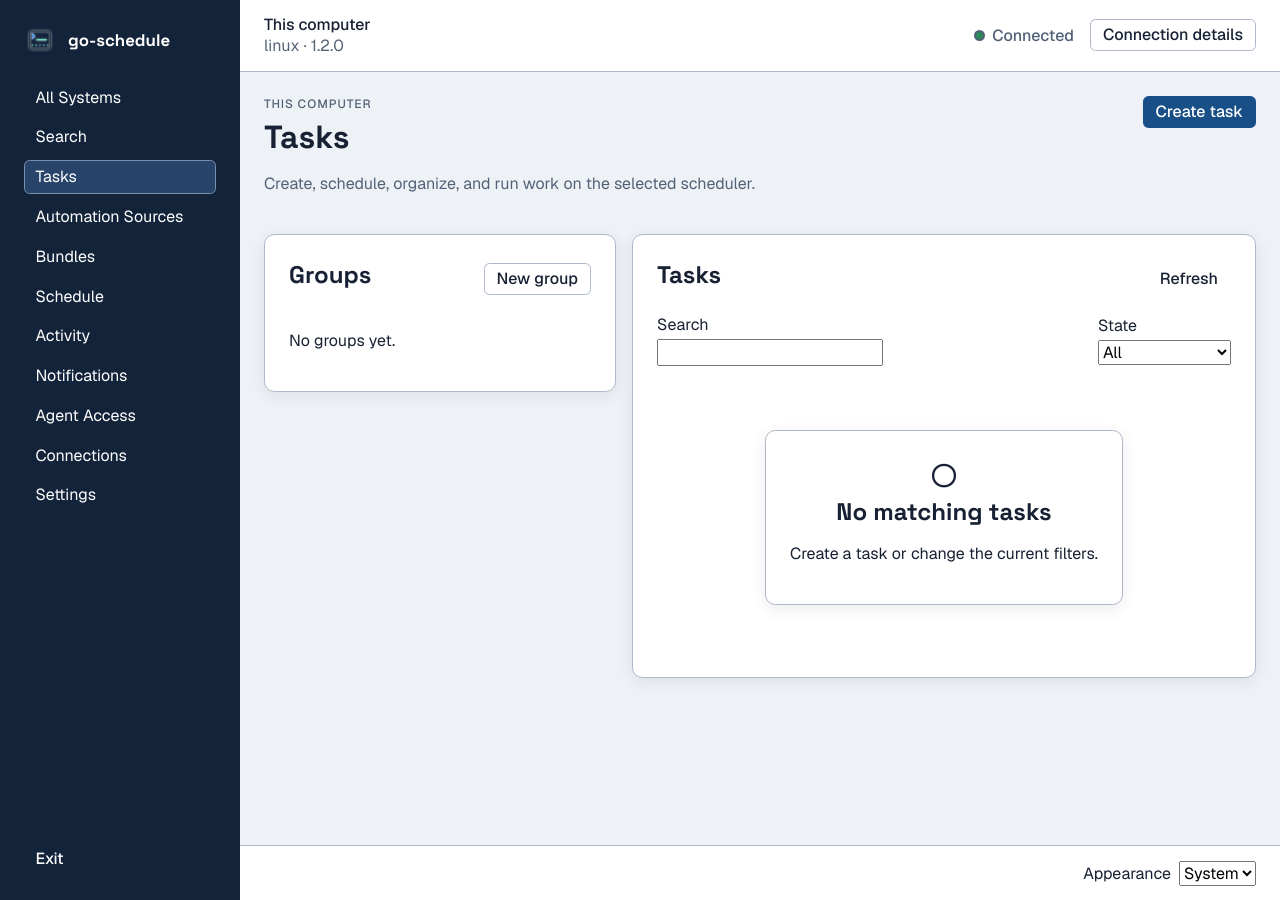
it: production shell › keeps settings failures persistent until dismissed
The image size is (1280, 900).
Select "Dark" in the dropdown labelled "Appearance". click: point(1218, 873)
box: [1179, 861, 1256, 886]
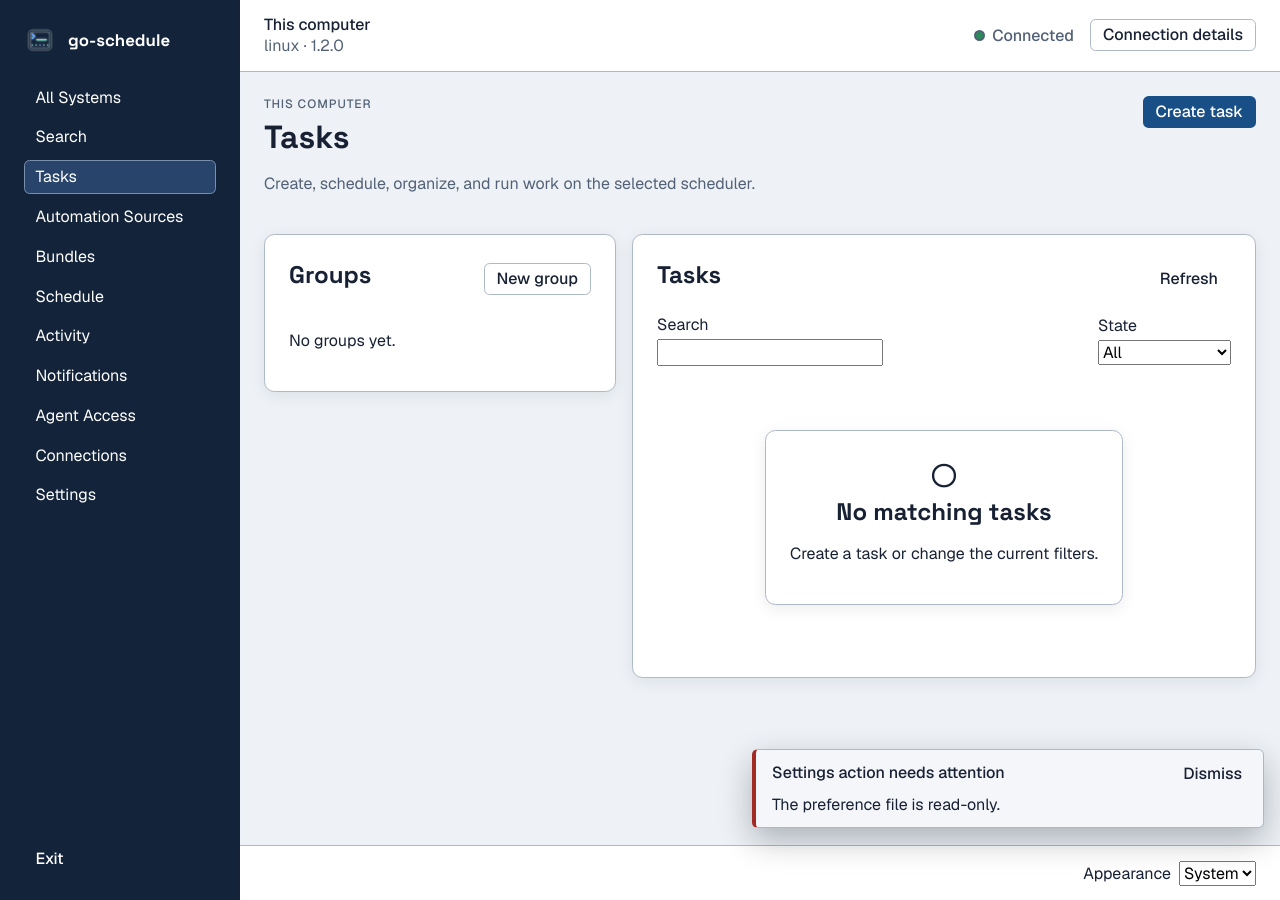
Now the message shows "The preference file is read-only.", box [772, 794, 1000, 815]
Click the button with aria-label "Dismiss Settings action needs attention". click: point(1213, 774)
box: [1170, 758, 1255, 790]
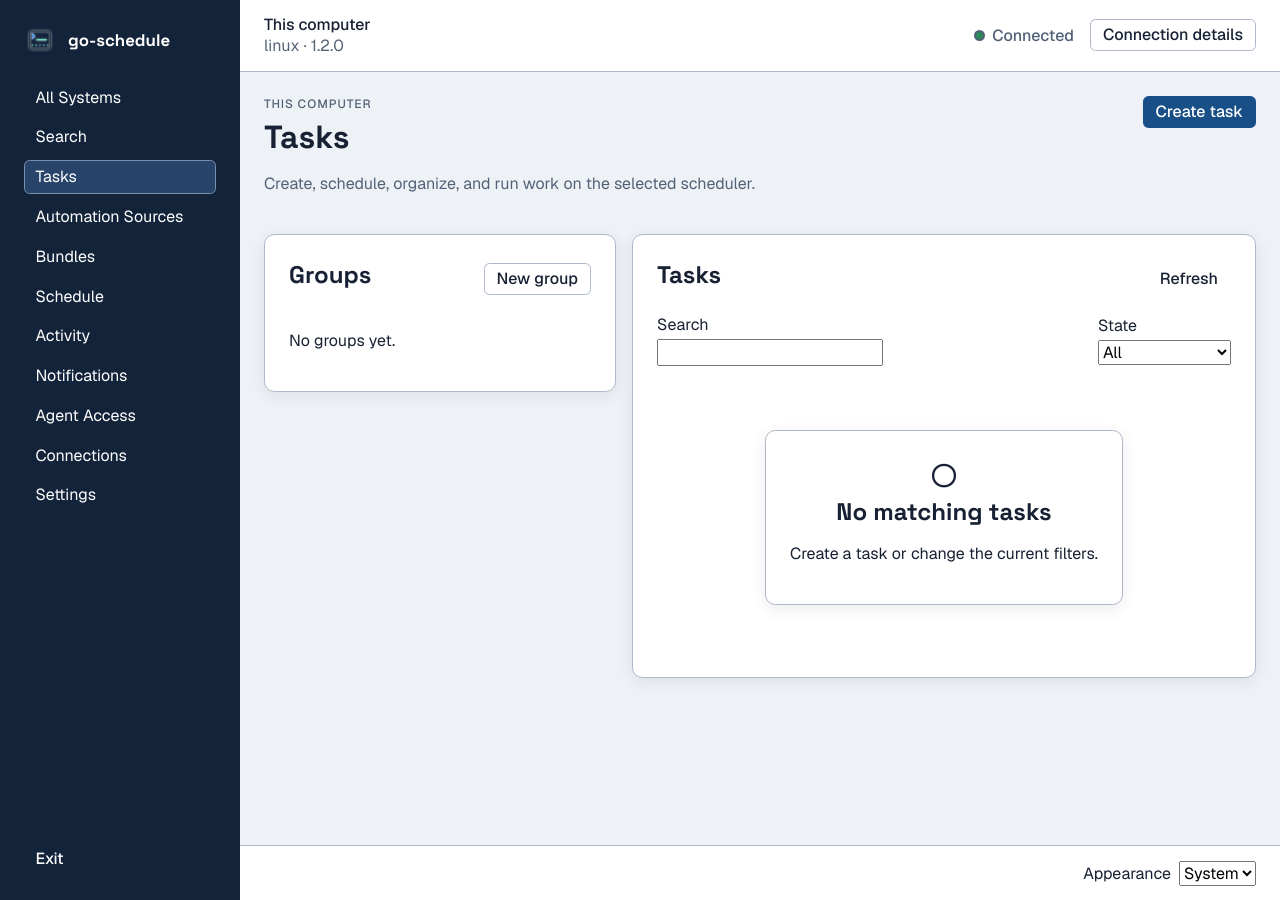
Now the text "The preference file is read-only." is gone
